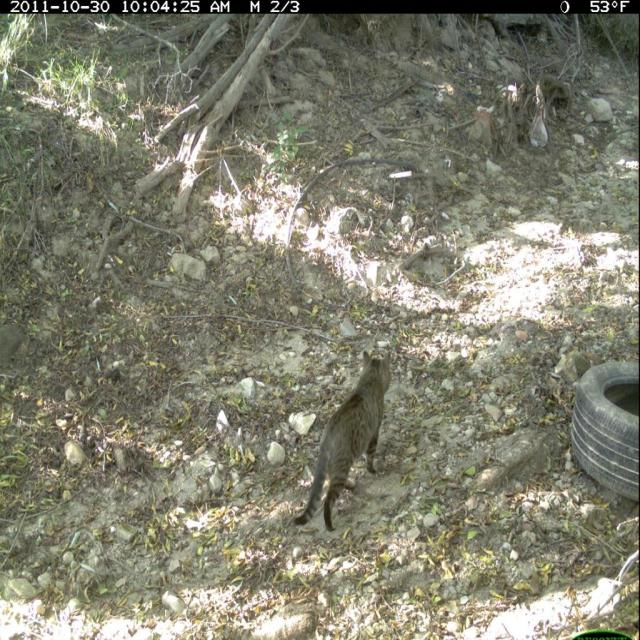cat: (293, 349, 397, 536)
